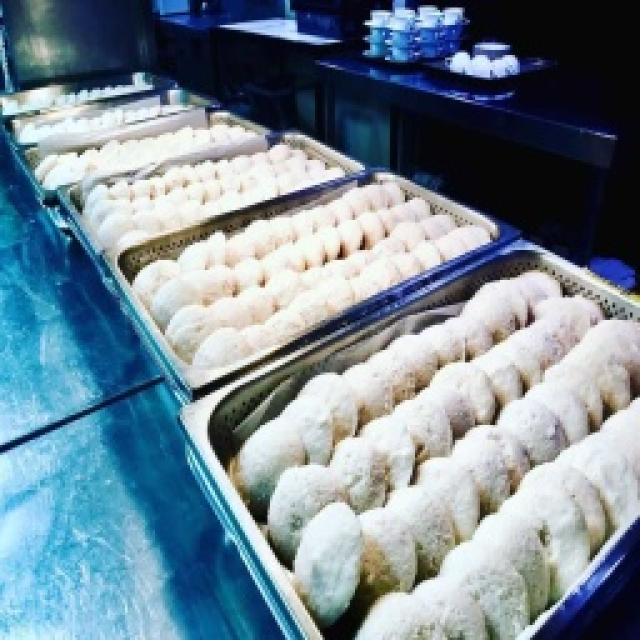idli: (230, 268, 585, 520), (385, 180, 482, 232)
